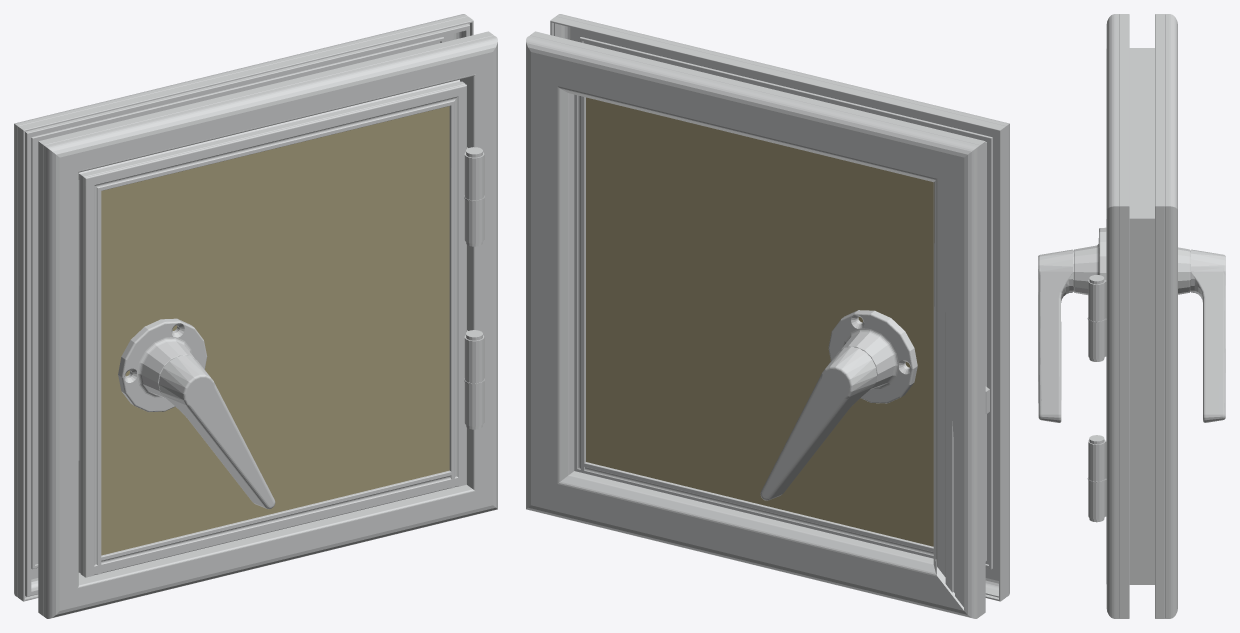
File: DR40_del.glb
3 views of the same model, side by side, from view 1: azimuth 30°, elevation 25°; view 2: azimuth 150°, elevation 25°; view 3: azimuth 270°, elevation 25° (orthographic). The views are drawn at different scales.
Visible parts, largest first — view 1: DR40_最小; view 2: DR40_最小; view 3: DR40_最小.
Part boxes in pixels (<box>): DR40_最小: <box>14,14,497,618</box>; DR40_最小: <box>526,14,1009,618</box>; DR40_最小: <box>1038,14,1225,618</box>.
Bounding box in the file's own units: 0.42 × 0.42 × 0.173.
